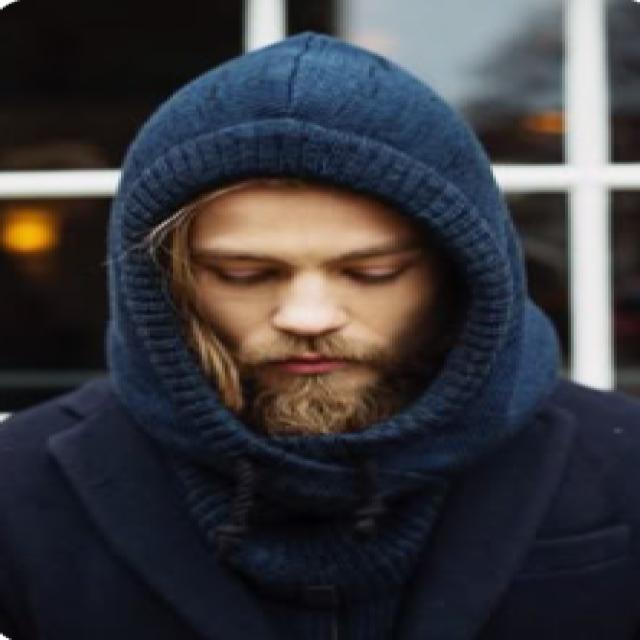4_capucha: (102, 31, 566, 598)
